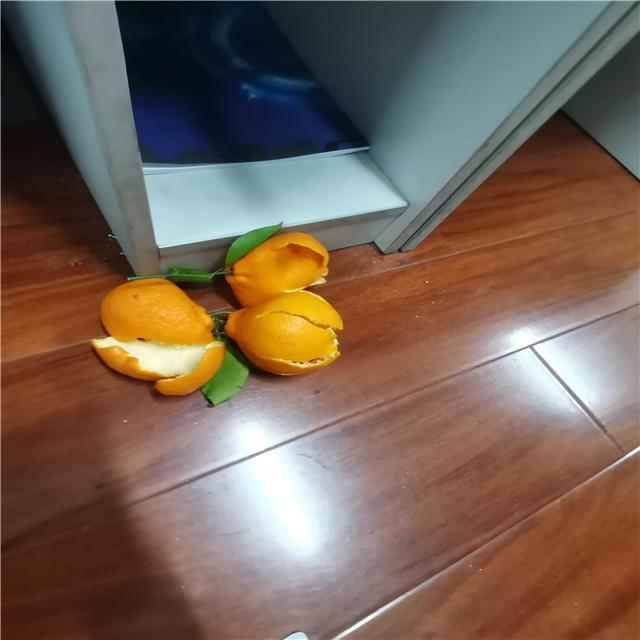orange-peel: (227, 228, 345, 381), (95, 275, 224, 398)
